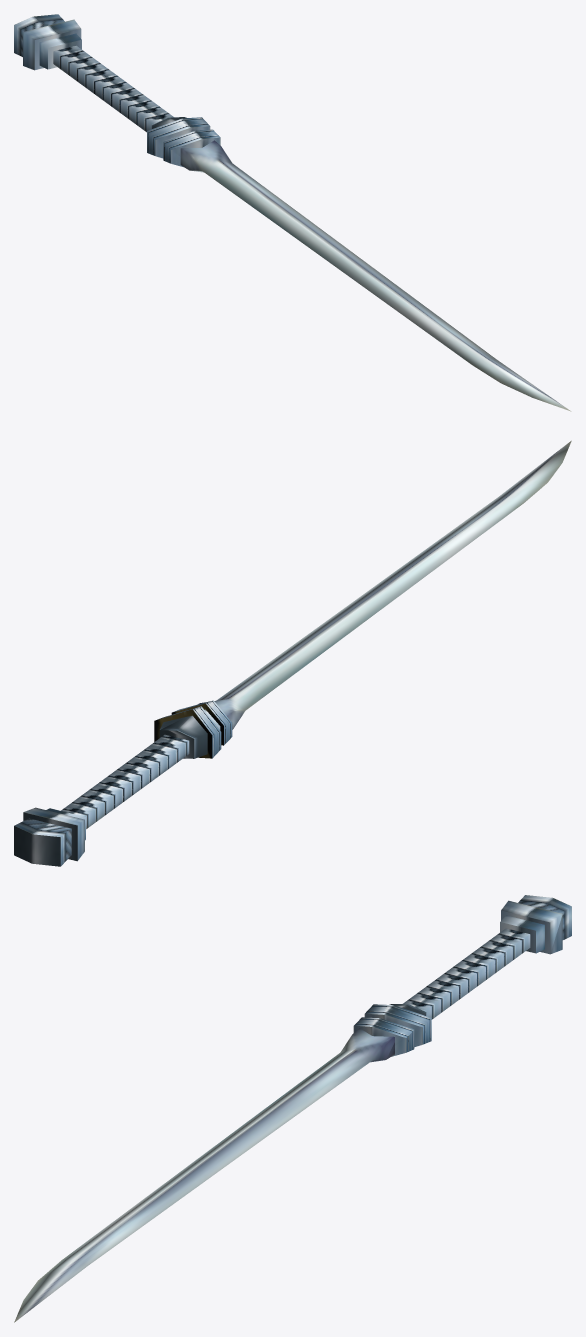
3 views of the same model, one above another, from view 1: azimuth 30°, elevation 25°; view 2: azimuth 150°, elevation 25°; view 3: azimuth 330°, elevation 25° (orthographic). The views are drawn at different scales.
Visible parts, largest first — view 1: W900R; view 2: W900R; view 3: W900R.
Boxes of the visible parts, box(x1,y1,x2,y2) form: W900R: box(14, 14, 571, 411); W900R: box(14, 440, 571, 866); W900R: box(14, 895, 571, 1322).
Size of the model in its own units: 1.75 by 1.38 by 28.91.
1 material, 1 textured.
